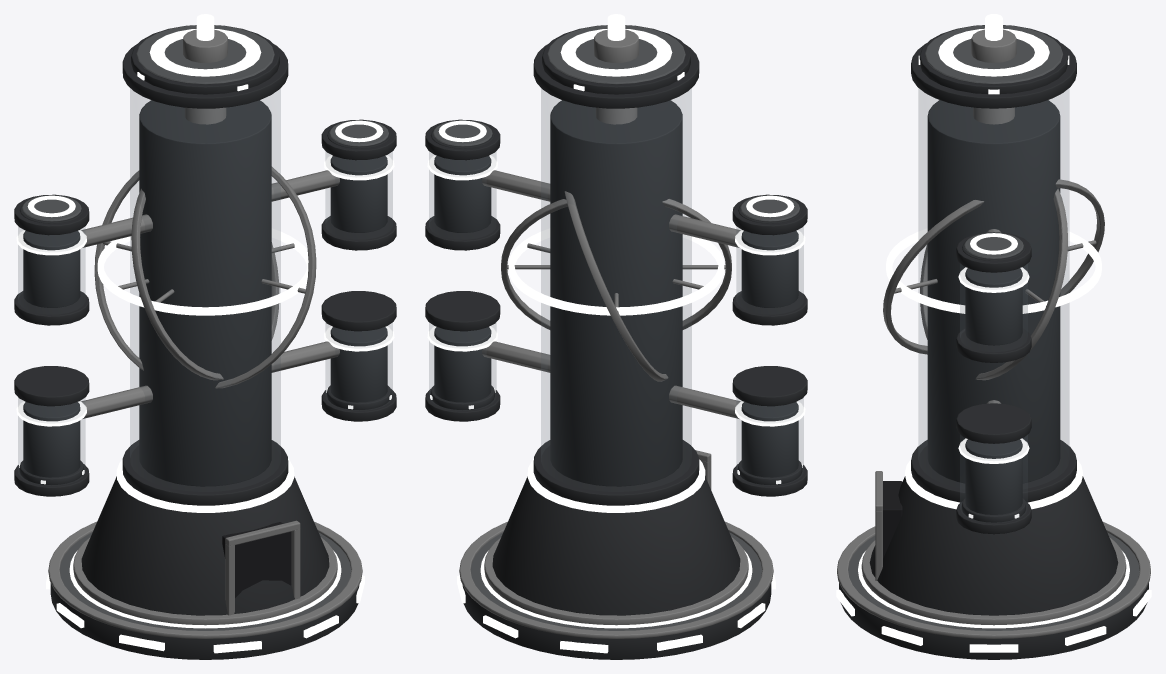
File: Skin_Reactor_T4.glb
3 views of the same model, side by side, from view 1: azimuth 30°, elevation 25°; view 2: azimuth 150°, elevation 25°; view 3: azimuth 270°, elevation 25° (orthographic).
Visible parts, largest first — view 1: Skin_Reactor_T4; view 2: Skin_Reactor_T4; view 3: Skin_Reactor_T4.
Boxes of the visible parts, x1=… form: Skin_Reactor_T4: x1=14, y1=14, x2=396, y2=659; Skin_Reactor_T4: x1=425, y1=14, x2=807, y2=659; Skin_Reactor_T4: x1=836, y1=14, x2=1151, y2=659.
Bounding box in the file's own units: 5.7 × 8.44 × 4.17.
